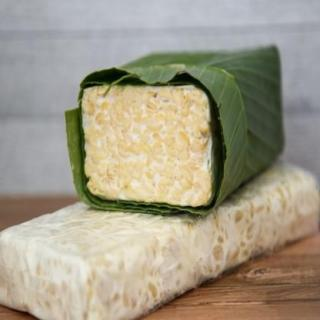Tempe: (79, 81, 222, 211)
